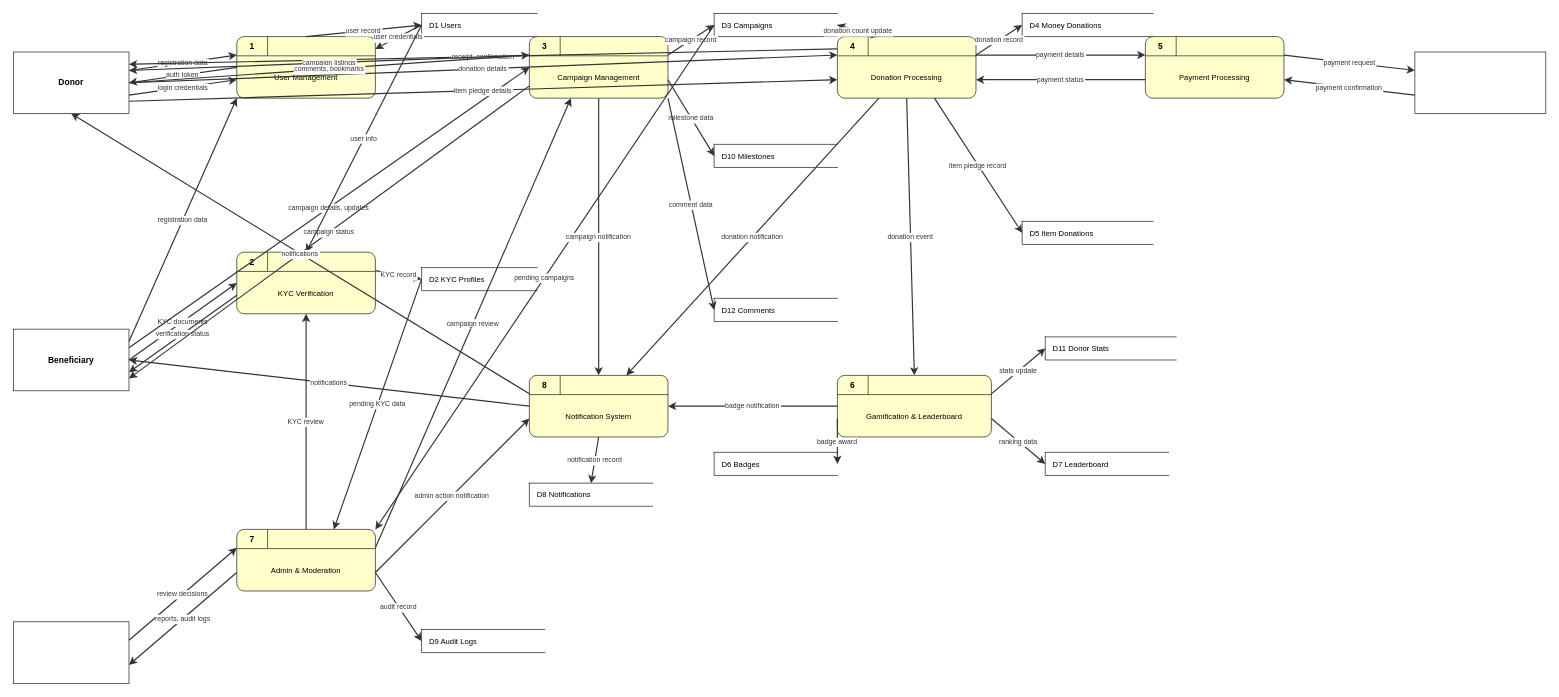
Image size: 1559x697. Some labels were removed from this diagram. The shapes that lost their labels are listed below. From the top down, each one's centre as x and y in pixels, then its label:
At point 1480,82: "Khalti Payment Gateway".
At point 71,652: "Admin".
